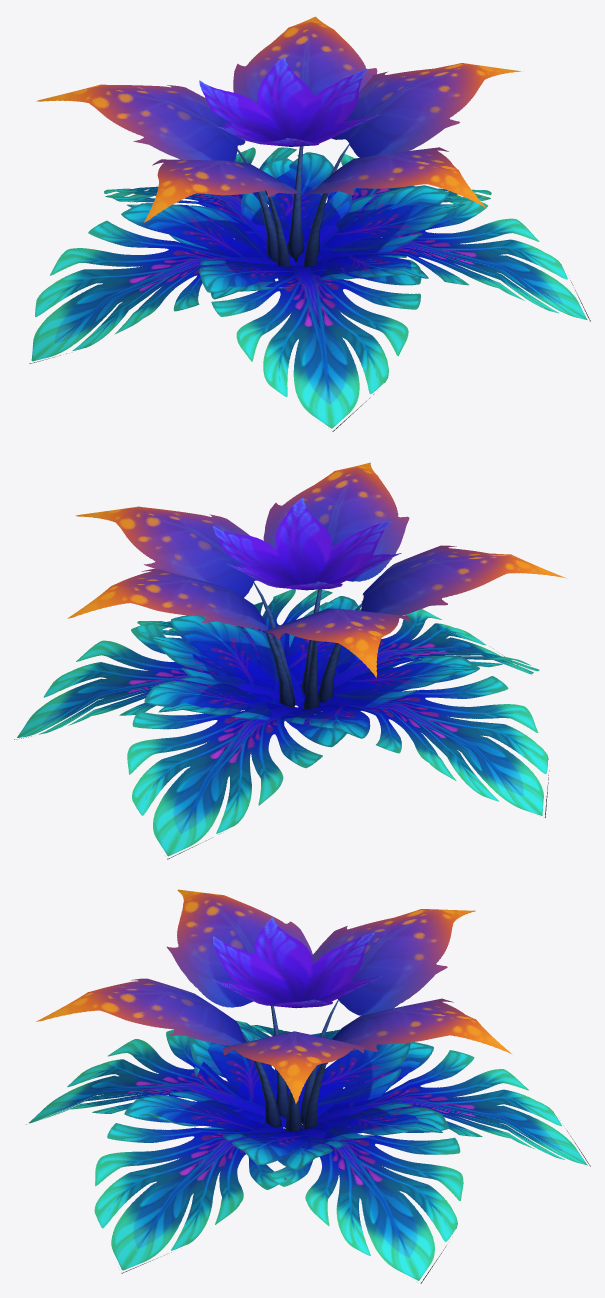
Rendered from Blue_Bush_05.FBX.
3 renders of one model, top to bottom at view 1: azimuth 30°, elevation 25°; view 2: azimuth 150°, elevation 25°; view 3: azimuth 270°, elevation 25°, orthographic.
Visible parts, largest first — view 1: Blue_Bush_05; view 2: Blue_Bush_05; view 3: Blue_Bush_05.
Part boxes in pixels (box(x1,y1,x2,y2)): Blue_Bush_05: box(29, 16, 590, 431); Blue_Bush_05: box(14, 462, 567, 859); Blue_Bush_05: box(26, 889, 590, 1283).
Bounding box in the file's own units: 172 × 69.59 × 170.
